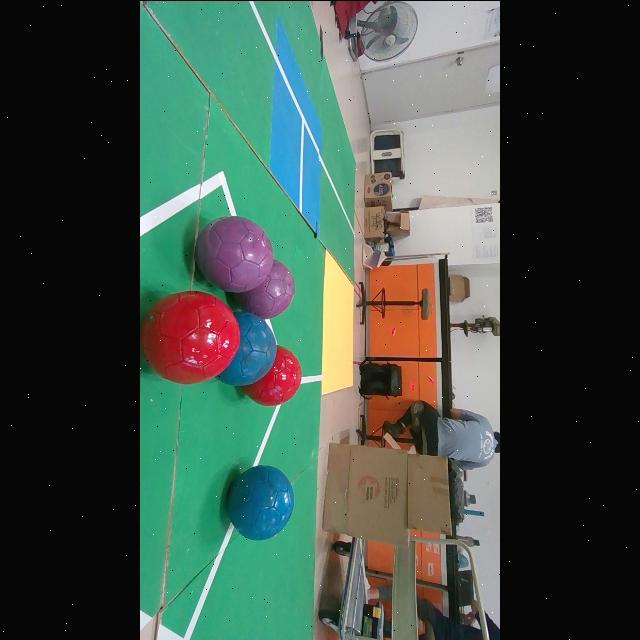B: (227, 464, 293, 539), (217, 310, 277, 385)
P: (197, 215, 274, 290), (233, 259, 295, 318)
R: (140, 290, 239, 383), (243, 344, 302, 405)
